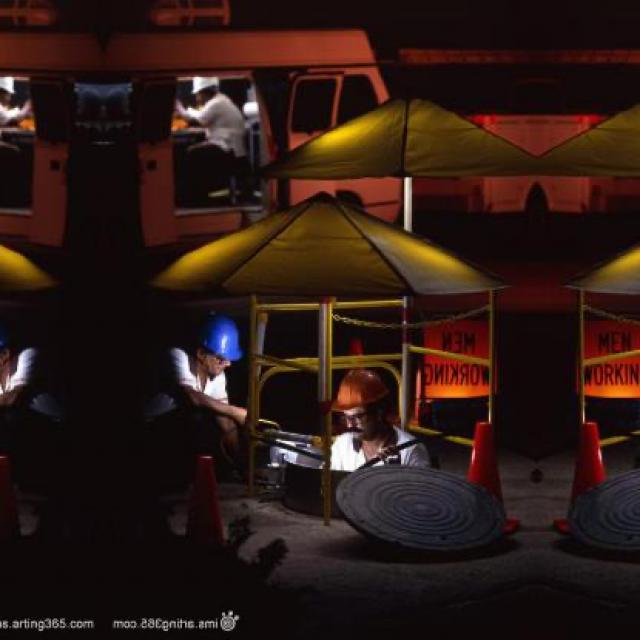helmet: (330, 366, 399, 442), (184, 316, 244, 383), (184, 68, 219, 109), (1, 314, 22, 382), (1, 66, 22, 110)
